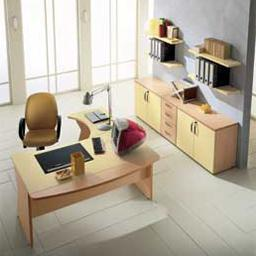Ventana: (11, 3, 82, 93), (81, 0, 140, 82)
